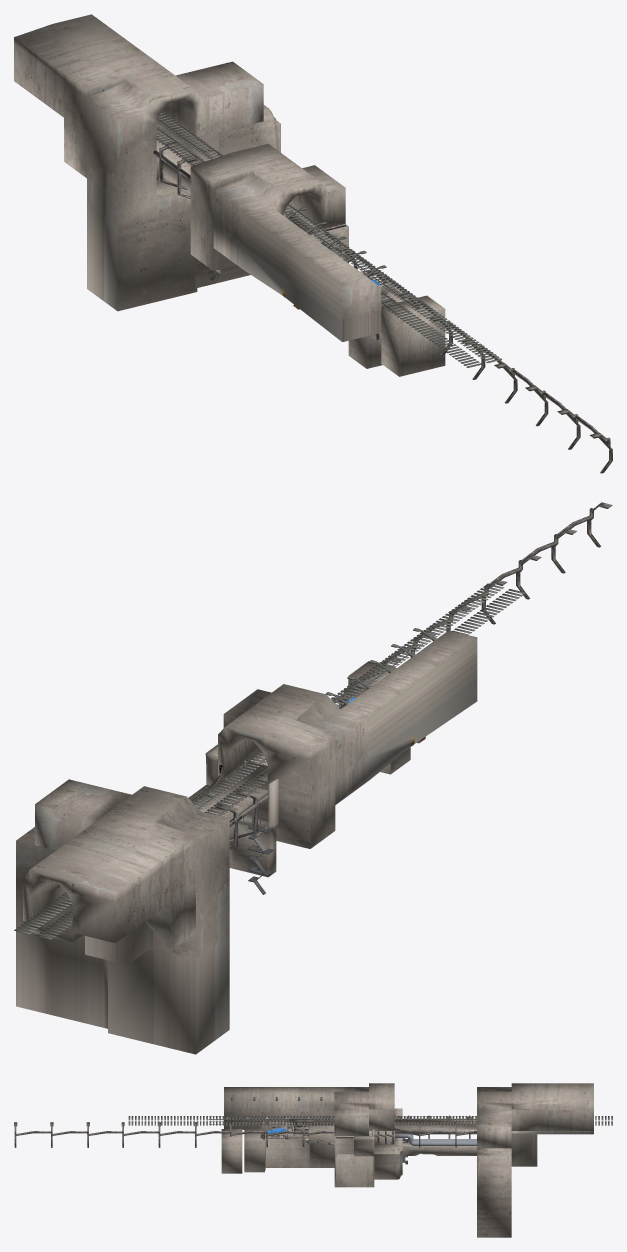
File: PlayableArea_V2.glb
3 views of the same model, one above another, from view 1: azimuth 30°, elevation 25°; view 2: azimuth 150°, elevation 25°; view 3: azimuth 270°, elevation 25° (orthographic). The views are drawn at different scales.
Visible parts, largest first — view 1: Cube.071, Cube.062-col.001, Cube.066-col, Cube.037, Cube.042, Cube.038, Cube.041; view 2: Cube.071, Cube.062-col.001, Cube.037, Cube.042, Cube.038, Cube.066-col, Cube.041; view 3: Cube.071, Cube.062-col.001, Plane-col, Cube.059-col, Cube.066-col, Cube.042, Cube.037, Cube.038, Cylinder.010-col, Cube.040, Cube.039, Cube.067-col.
Boxes of the visible parts, bbox=[...] form: Cube.071: bbox=[14, 14, 280, 311]; Cube.062-col.001: bbox=[163, 143, 381, 341]; Cube.066-col: bbox=[348, 288, 445, 376]; Cube.037: bbox=[157, 110, 501, 363]; Cube.042: bbox=[324, 232, 612, 473]; Cube.038: bbox=[156, 126, 482, 367]; Cube.041: bbox=[153, 141, 396, 339]; Cube.071: bbox=[16, 779, 267, 1054]; Cube.062-col.001: bbox=[188, 630, 477, 877]; Cube.037: bbox=[14, 583, 504, 934]; Cube.042: bbox=[332, 502, 612, 705]; Cube.038: bbox=[36, 589, 525, 939]; Cube.066-col: bbox=[348, 661, 410, 774]; Cube.041: bbox=[215, 774, 268, 849]; Cube.071: bbox=[394, 1083, 593, 1237]; Cube.062-col.001: bbox=[224, 1083, 476, 1179]; Plane-col: bbox=[260, 1121, 372, 1170]; Cube.059-col: bbox=[334, 1129, 374, 1187]; Cube.066-col: bbox=[221, 1127, 264, 1173]; Cube.042: bbox=[14, 1122, 334, 1147]; Cube.037: bbox=[128, 1121, 612, 1125]; Cube.038: bbox=[128, 1116, 612, 1120]; Cylinder.010-col: bbox=[394, 1134, 476, 1145]; Cube.040: bbox=[208, 1116, 476, 1119]; Cube.039: bbox=[209, 1121, 476, 1124]; Cube.067-col: bbox=[394, 1122, 476, 1147].
Size of what is drawn, in the model's own units: 65.92 by 77.94 by 372.
Materials: 214 (176 with a texture image).
